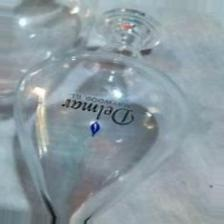Pear shaped flask: (9, 0, 190, 214)
